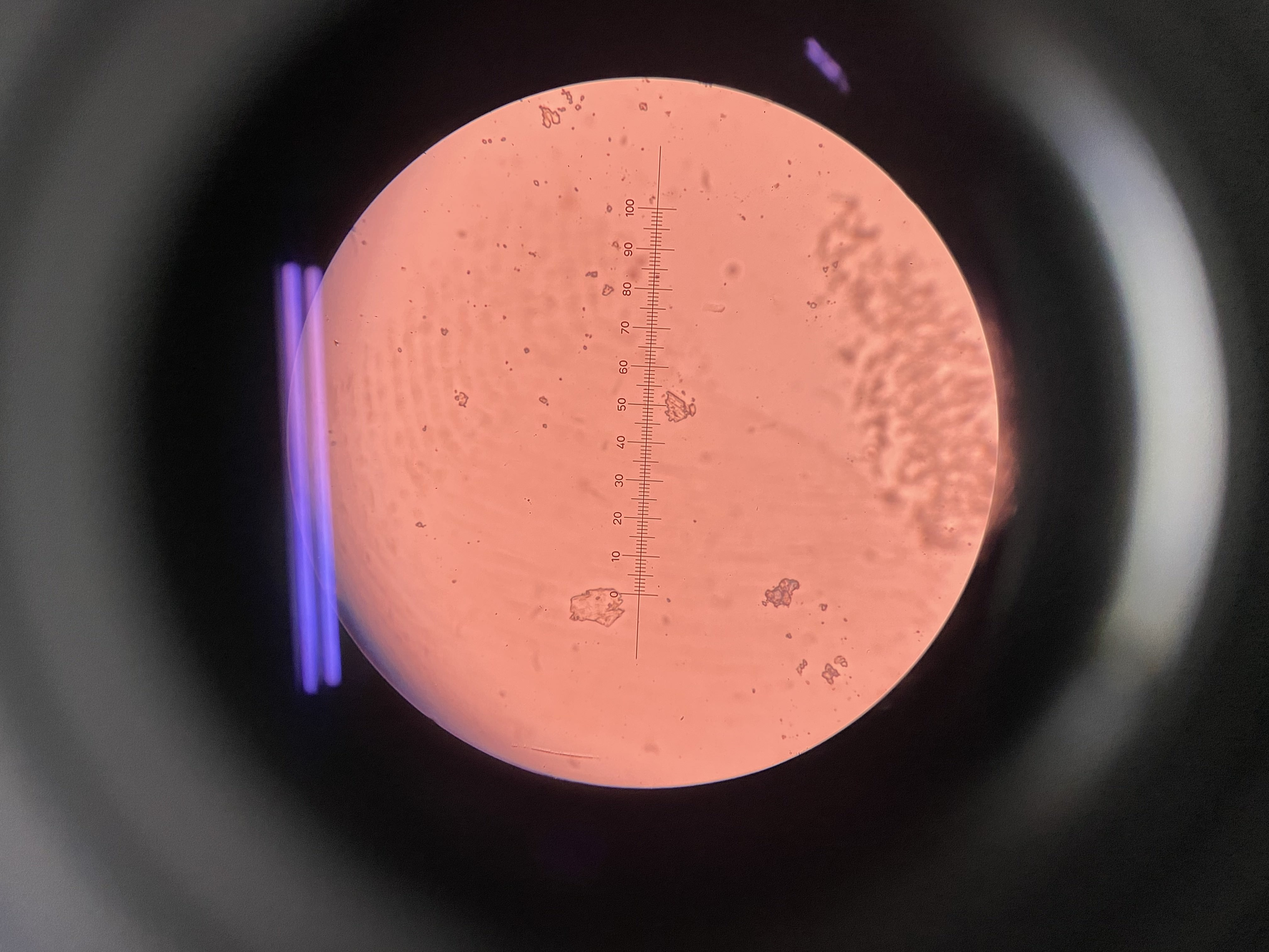not_microplastic: (812, 188, 1027, 564), (567, 584, 629, 628), (658, 391, 702, 424), (759, 578, 802, 611), (541, 103, 562, 130), (559, 91, 586, 110), (435, 325, 461, 342), (819, 665, 840, 685), (834, 652, 849, 672), (792, 658, 809, 675), (721, 261, 740, 276), (450, 391, 469, 406), (601, 282, 615, 298), (634, 102, 652, 111), (816, 602, 829, 611), (440, 325, 451, 335), (539, 395, 550, 404), (787, 629, 796, 639)
